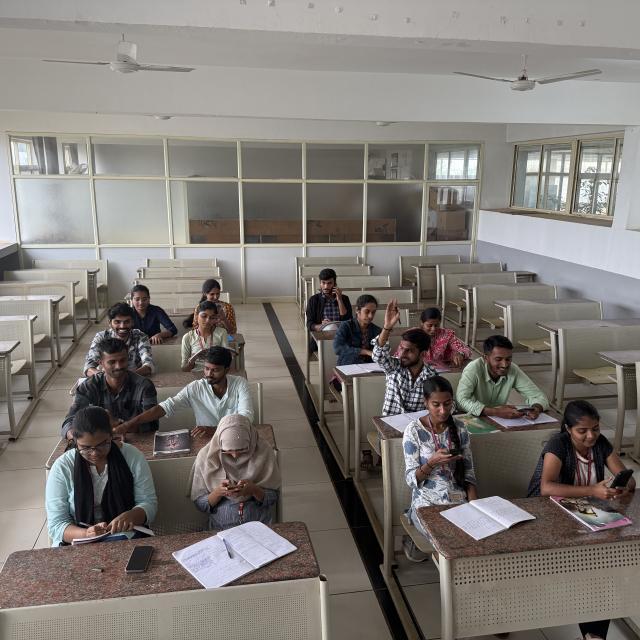Hand Rising: (370, 298, 432, 407)
Reading: (333, 295, 387, 379), (179, 300, 238, 372)
Using Phone: (184, 414, 286, 528), (534, 398, 636, 509), (397, 374, 478, 502), (457, 332, 552, 428), (420, 303, 471, 372), (306, 268, 352, 333)
Writing: (46, 408, 156, 540)
